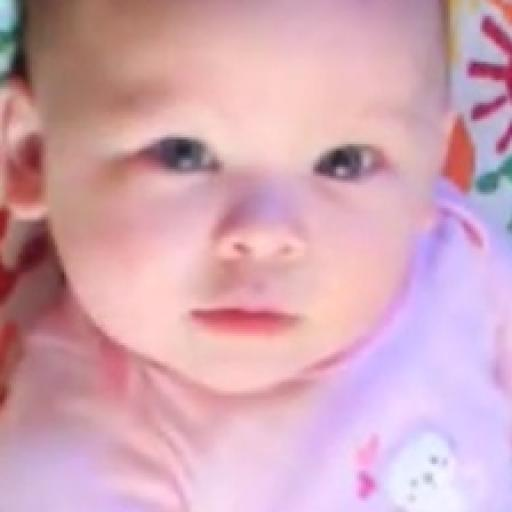Autism: (28, 0, 433, 394)
